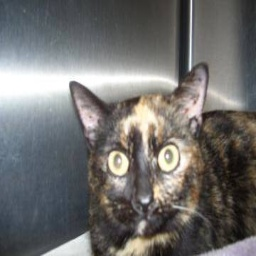cat: (61, 64, 256, 256)
